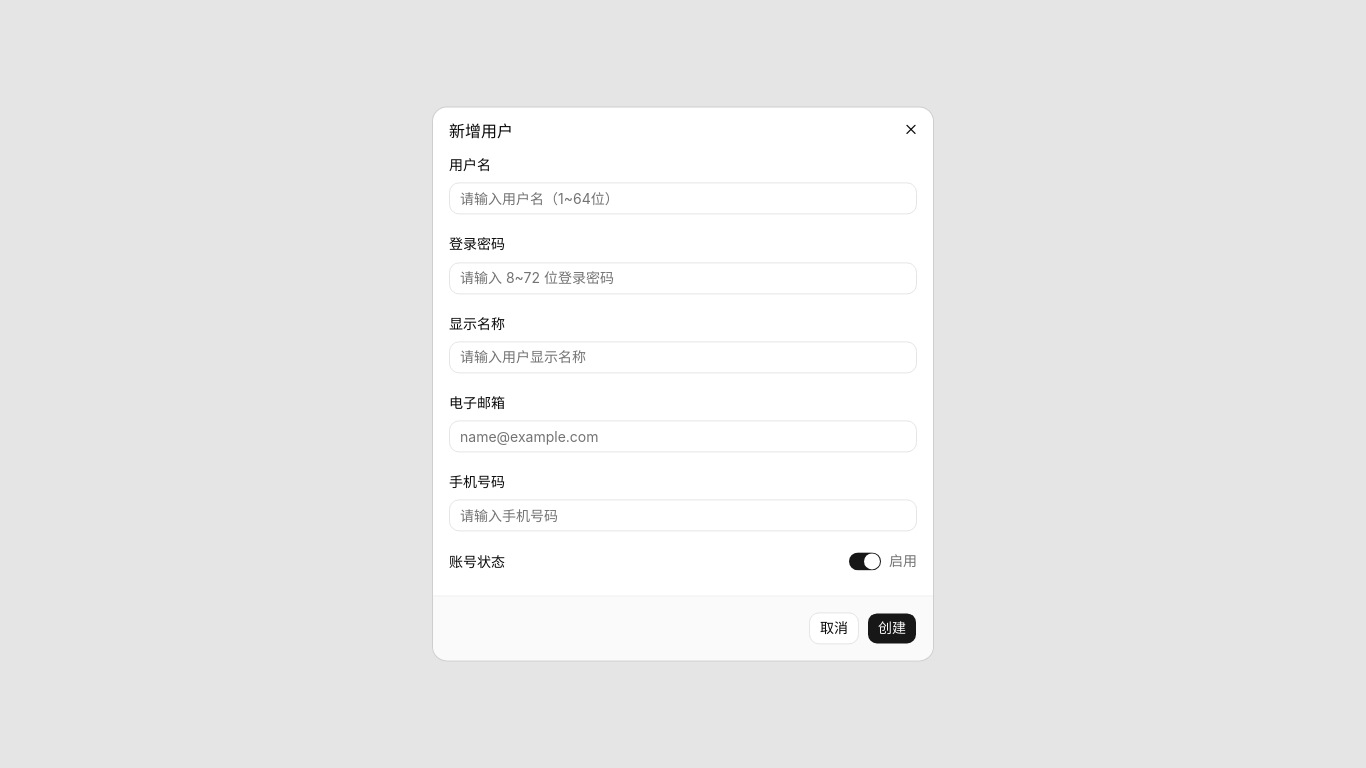
Test case: UserFormModal (RBAC 用户 新增/编辑弹窗) › 提交失败路径 - 后端抛出网络异常时在 Alert 中展示错误信息且 loading 结束
Type "net_user" into the field labelled "用户名" at (683, 199), box [449,183,917,215]
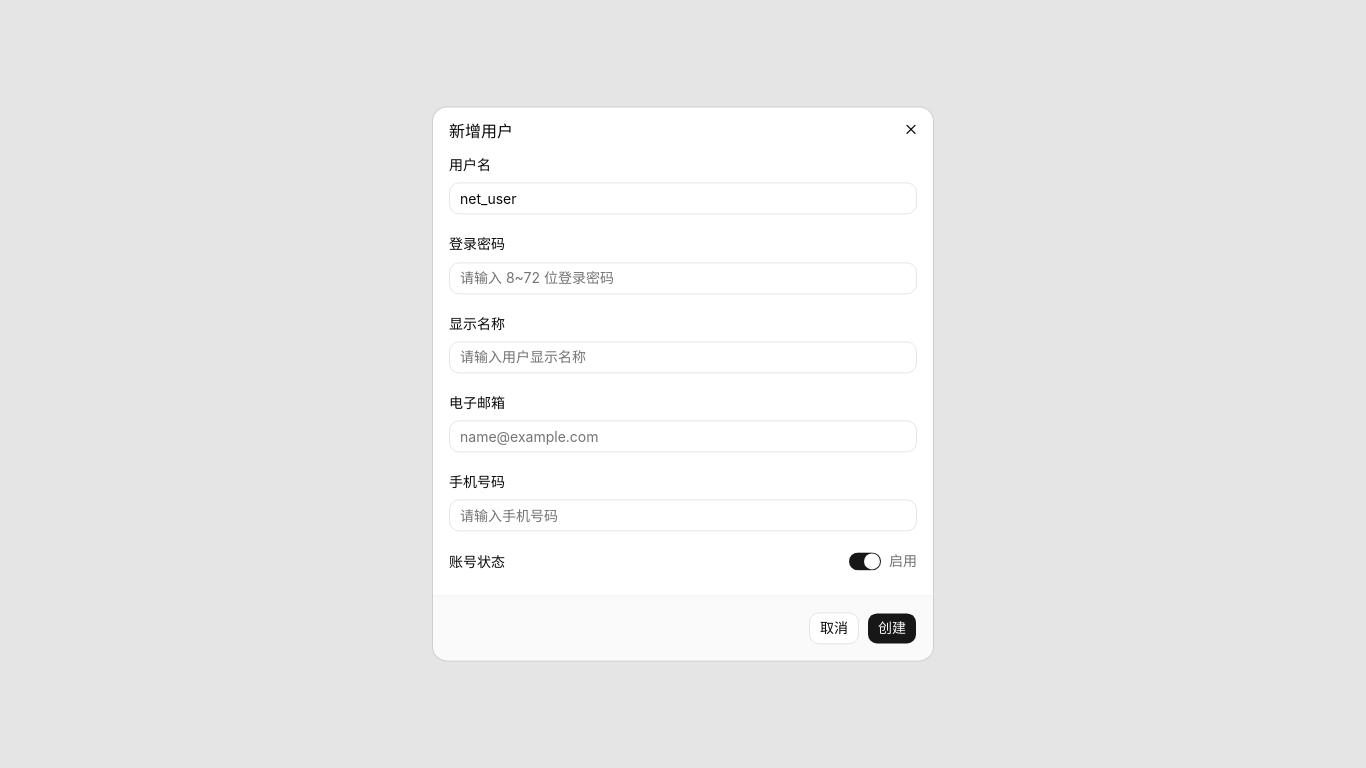
Type "Password123" into the password field labelled "登录密码" at (683, 278), box [449,262,917,294]
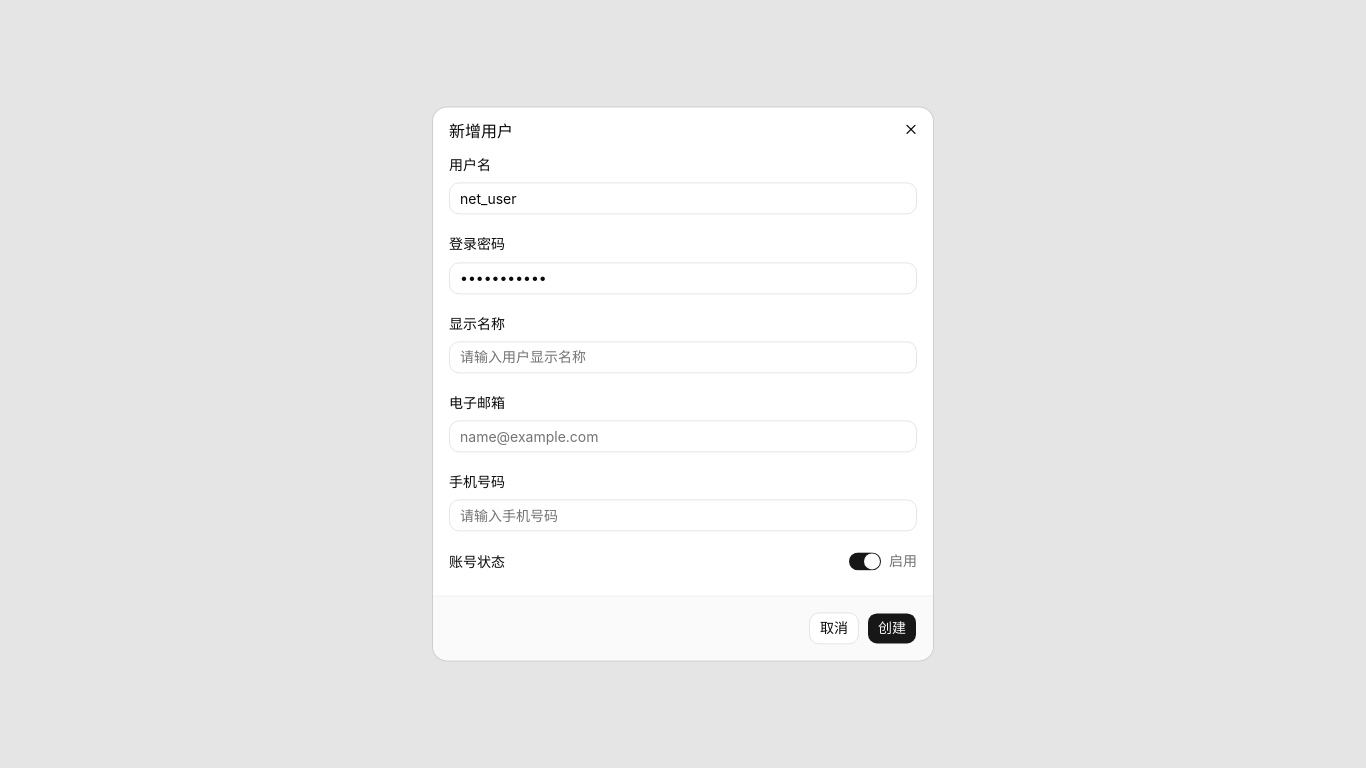
Click the button "创建" at (892, 629), box [867,613,917,645]
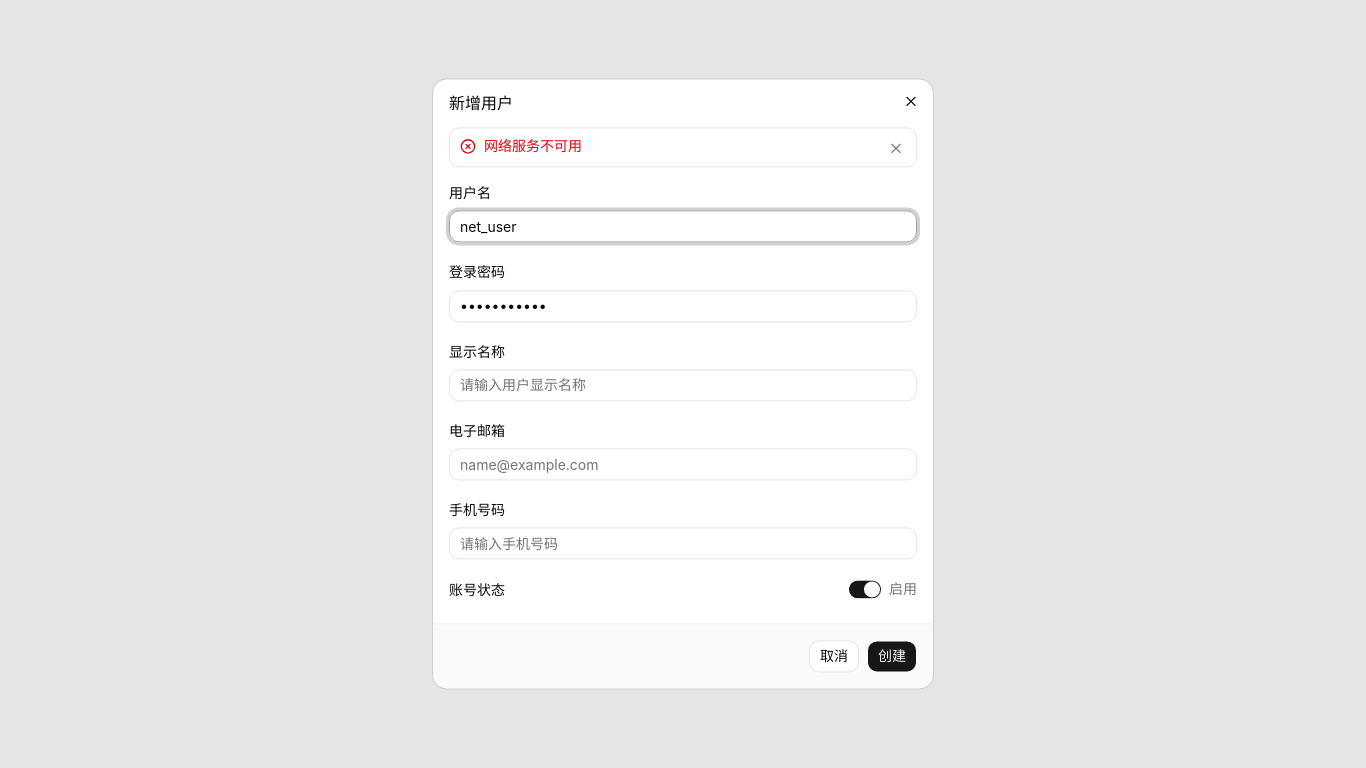
Expected: the button "创建" is enabled, [867,641,917,673]
Result: the text "网络服务不可用" is shown at [484,137,582,154]
